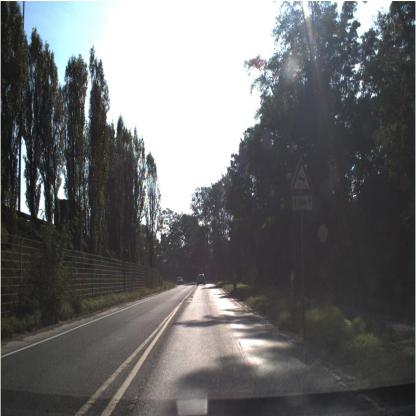danger: (288, 151, 316, 199)
